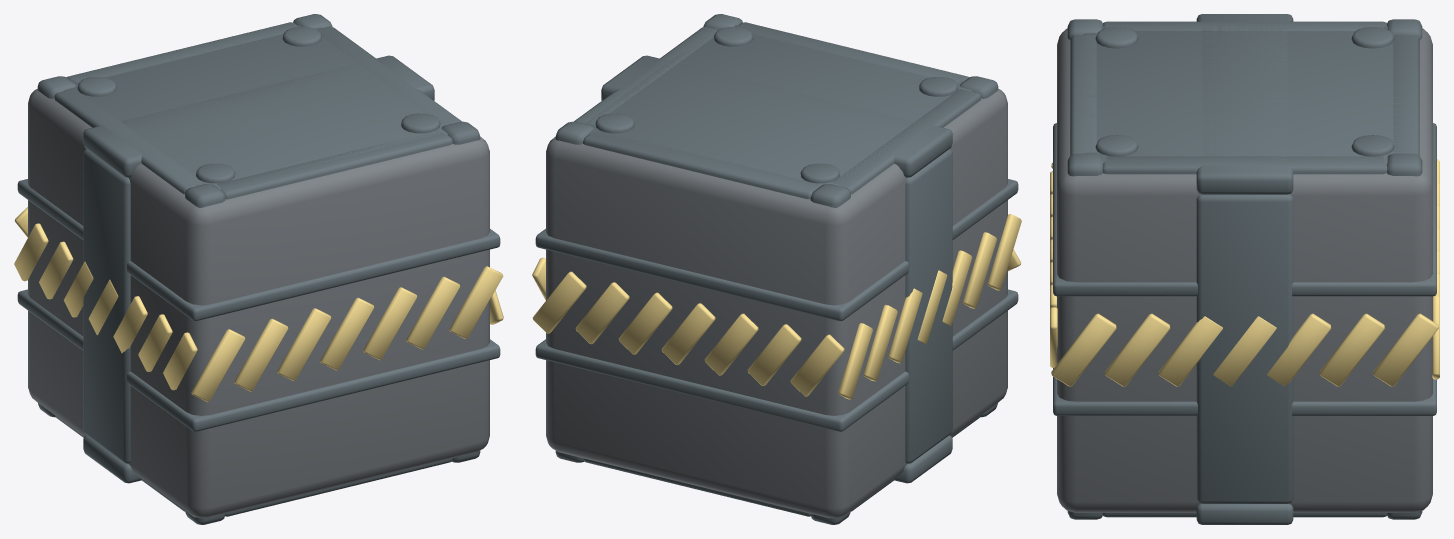
Rendered from props.fbx.
3 renders of one model, left to right at view 1: azimuth 30°, elevation 25°; view 2: azimuth 150°, elevation 25°; view 3: azimuth 270°, elevation 25°, orthographic. The views are drawn at different scales.
Parts seen in each view (by area): view 1: PistonBody, CoreCage, LaserWallFrame, PistonStripe, CrateFrame, PistonTrim; view 2: PistonBody, CoreCage, LaserWallFrame, PistonStripe, CrateFrame, PistonTrim; view 3: PistonBody, LaserWallFrame, CoreCage, CrateFrame, PistonStripe, PistonTrim.
Part boxes in pixels (x1=…): PistonBody: x1=28, y1=89, x2=489, y2=518; CoreCage: x1=63, y1=25, x2=452, y2=189; LaserWallFrame: x1=83, y1=55, x2=434, y2=483; PistonStripe: x1=14, y1=207, x2=503, y2=401; CrateFrame: x1=37, y1=14, x2=480, y2=524; PistonTrim: x1=17, y1=26, x2=500, y2=431; PistonBody: x1=546, y1=89, x2=1007, y2=518; CoreCage: x1=583, y1=25, x2=972, y2=189; LaserWallFrame: x1=601, y1=55, x2=952, y2=483; PistonStripe: x1=532, y1=214, x2=1021, y2=399; CrateFrame: x1=555, y1=14, x2=998, y2=524; PistonTrim: x1=535, y1=26, x2=1018, y2=431; PistonBody: x1=1057, y1=28, x2=1432, y2=512; LaserWallFrame: x1=1196, y1=14, x2=1293, y2=524; CoreCage: x1=1083, y1=26, x2=1406, y2=163; CrateFrame: x1=1067, y1=19, x2=1422, y2=519; PistonStripe: x1=1050, y1=159, x2=1439, y2=386; PistonTrim: x1=1053, y1=27, x2=1436, y2=415.
Bounding box in the file's own units: 2.01 × 2.04 × 2.01.
